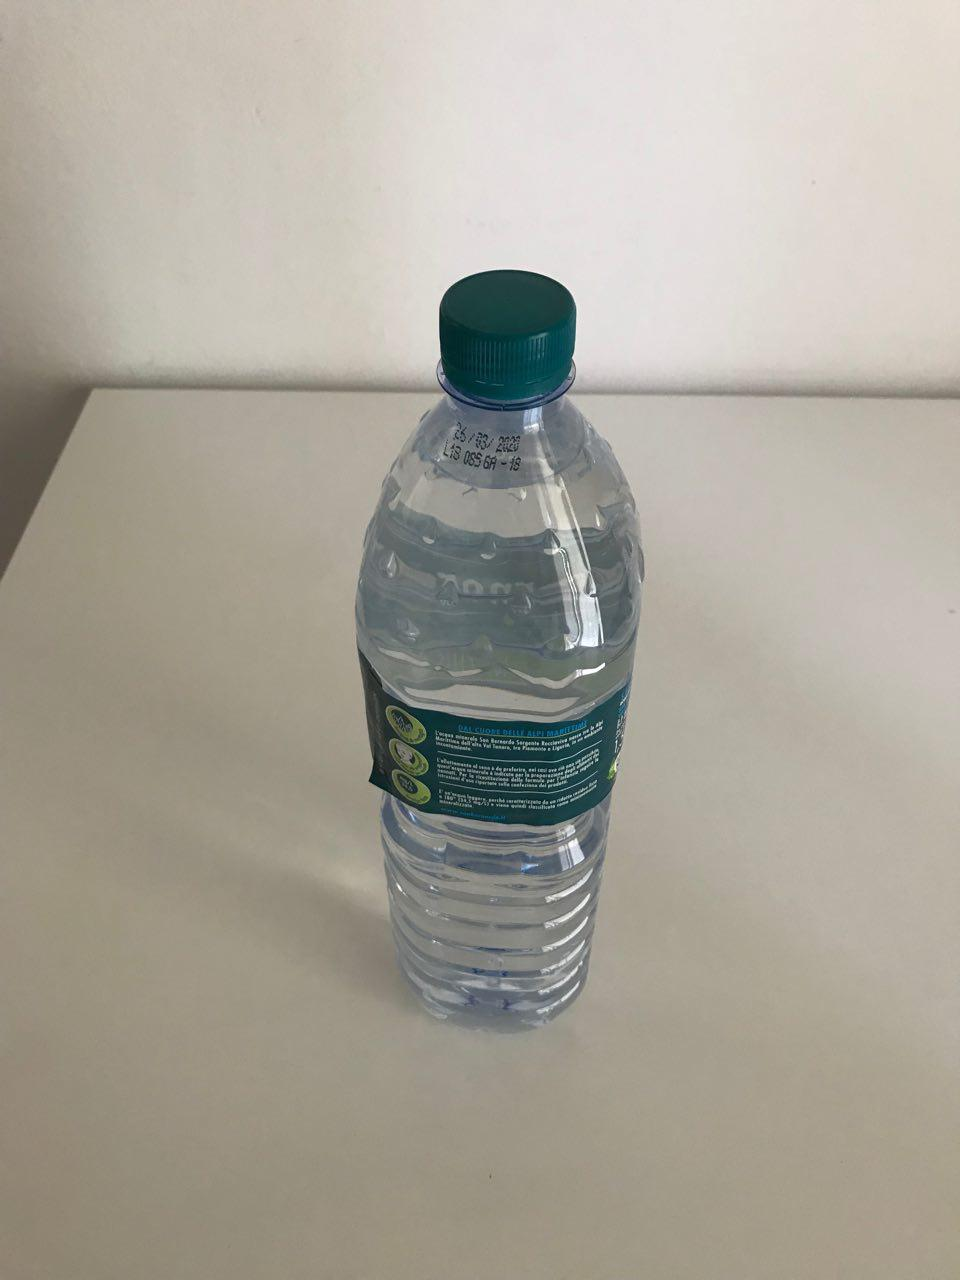san_bernardo: (352, 266, 649, 1036)
